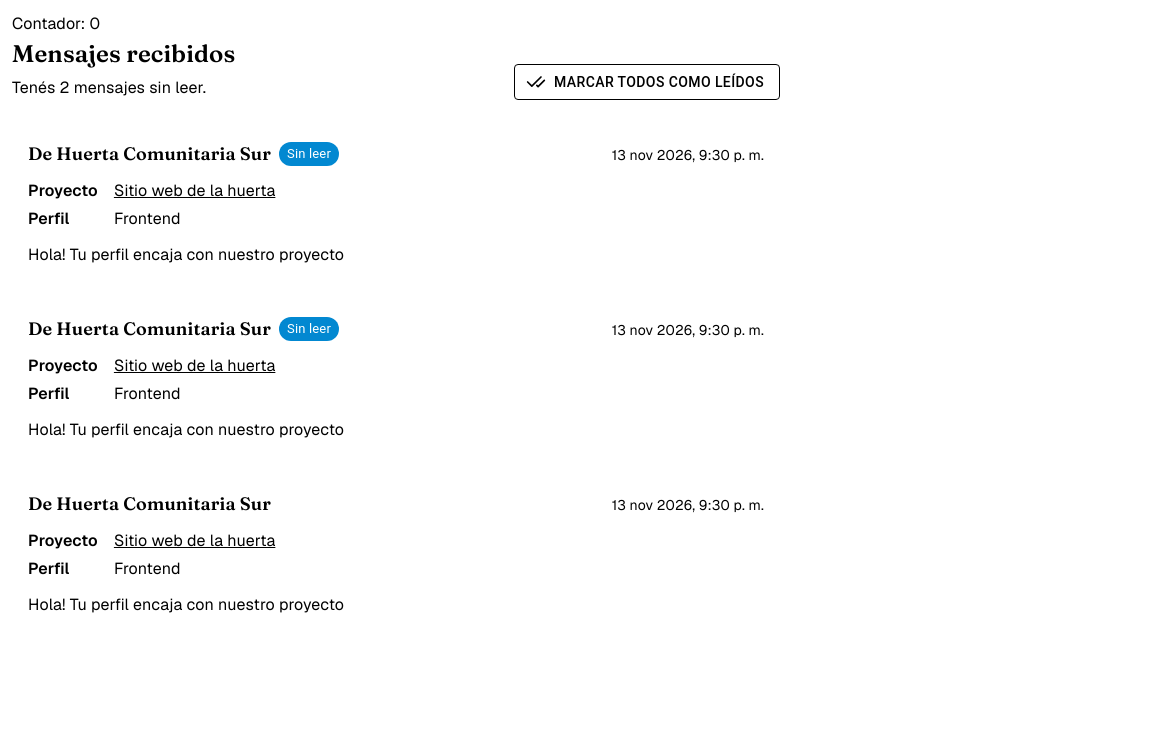
Test case: PaginaMensajes › la persona ve cuáles no leyó y los marca todos como leídos con el botón
The width and height of the screenshot is (1164, 732).
Expected: the text "Tenés 2 mensajes sin leer." is shown, [12,76,235,100]
Expected: the 1st text "Sin leer" is shown, [287,146,331,161]
Click the button "Marcar todos como leídos" at (647, 82), box [514,64,780,100]
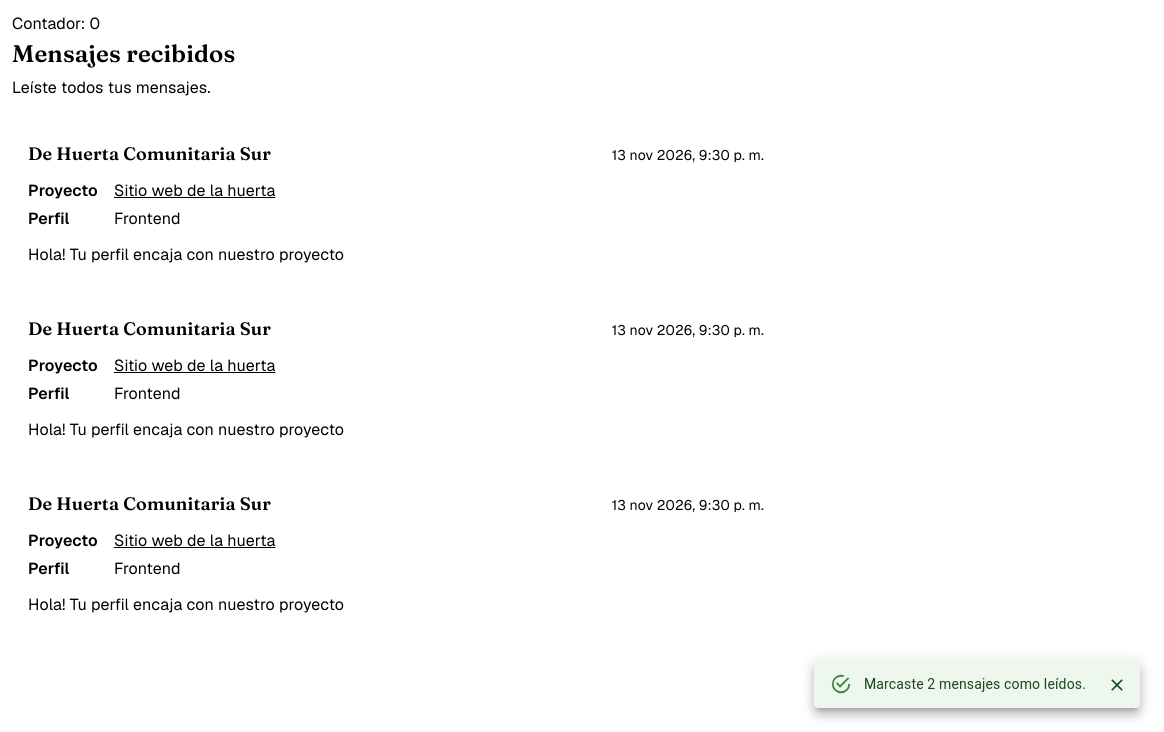
Result: the text "Marcaste 2 mensajes como leídos." is shown at [864,676,1086,692]
Result: the text "sin leer" is gone
Result: the text "Leíste todos tus mensajes." is shown at [12,76,235,100]
